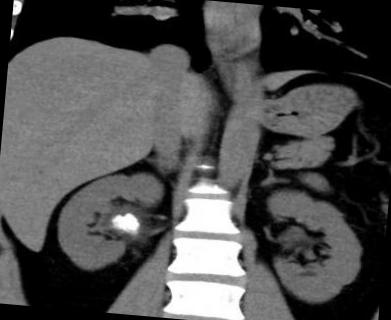Tas_Var: (107, 212, 148, 236), (122, 226, 127, 230), (114, 223, 118, 227)
